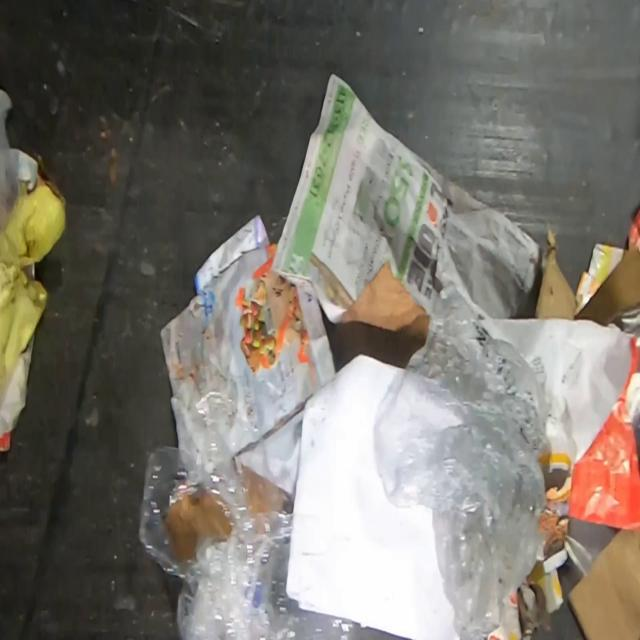cardboard: (330, 259, 428, 371), (567, 527, 640, 640), (574, 237, 640, 336), (534, 221, 576, 320)
soft_plastic: (140, 389, 410, 639), (372, 281, 543, 640)
